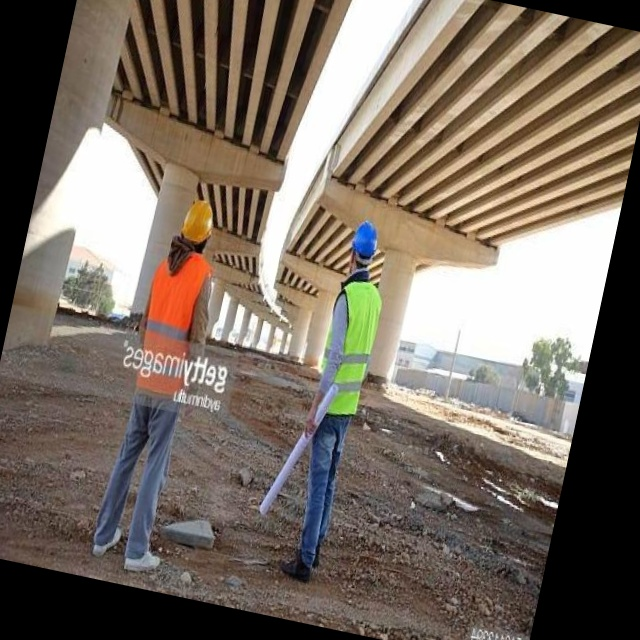Con_Casco: (178, 199, 216, 253)
Con_Chaleco: (309, 276, 386, 420)
